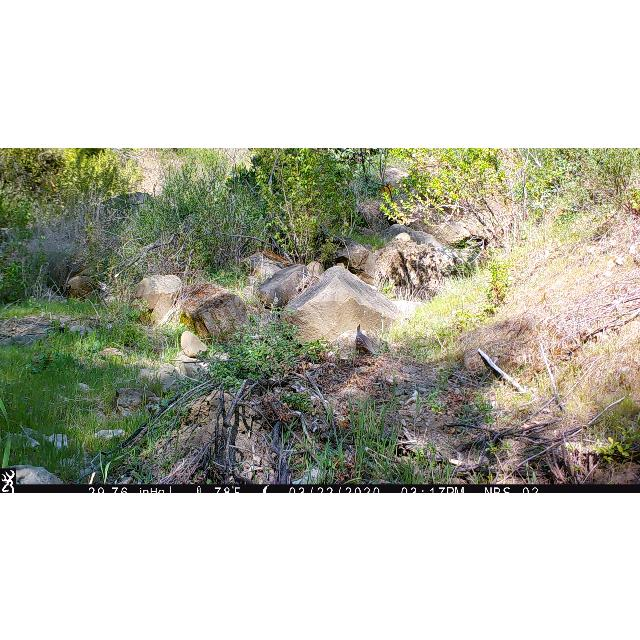animals: (354, 320, 378, 358)
